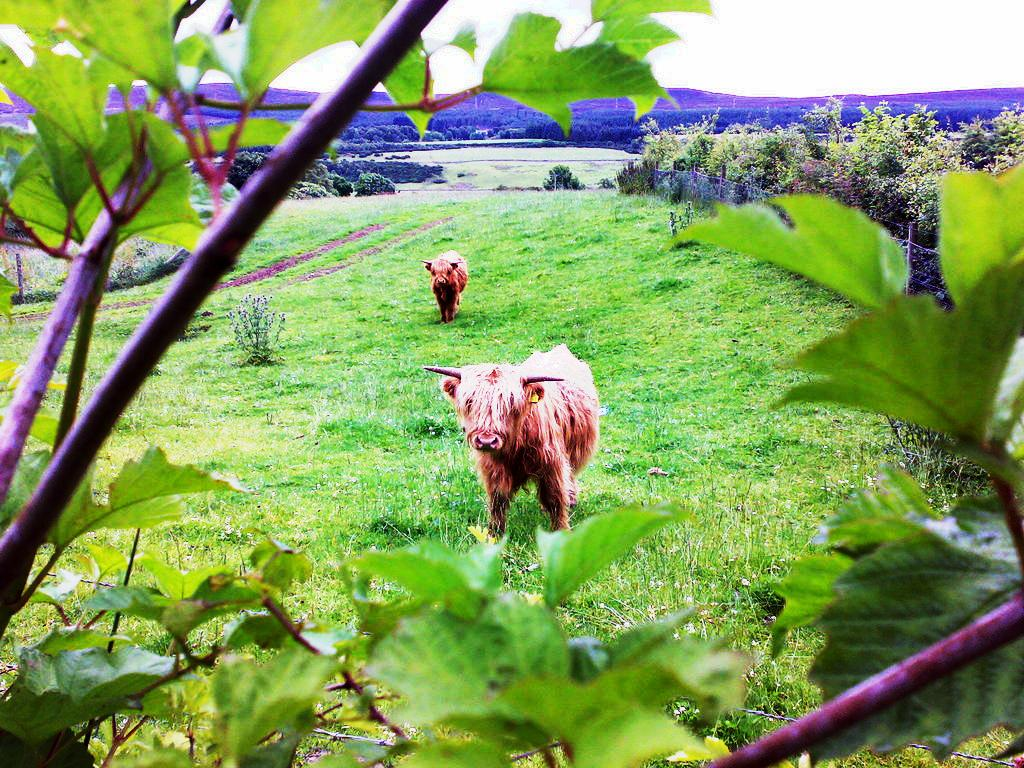Sheep: (428, 340, 605, 538), (420, 248, 468, 322)
